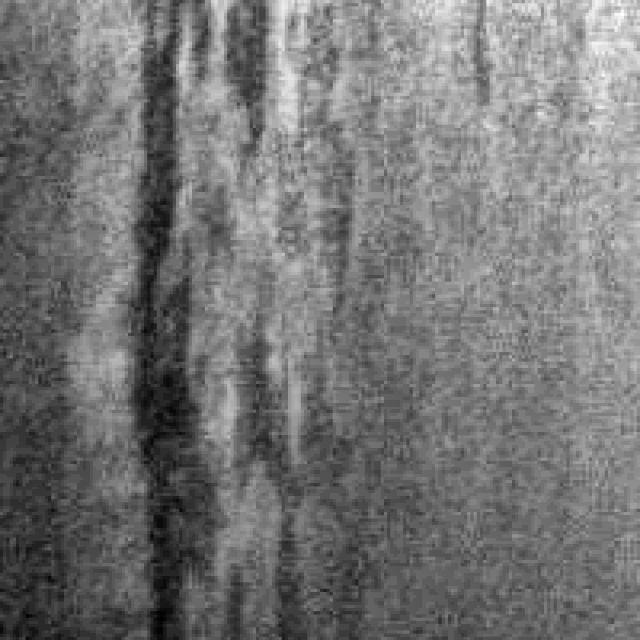Patches: (121, 0, 292, 627)
